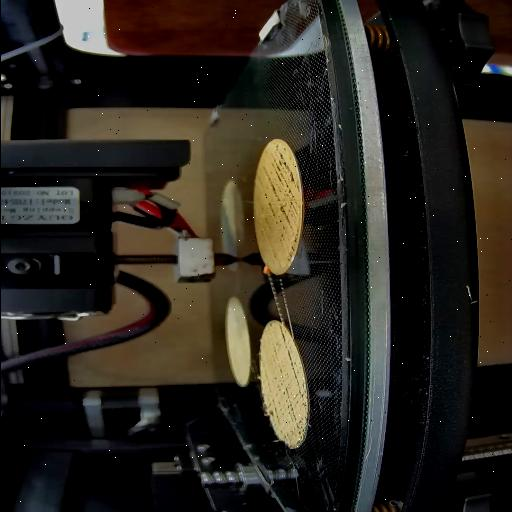under_extrusion: (262, 350, 308, 440), (266, 142, 296, 262), (270, 323, 290, 345)
